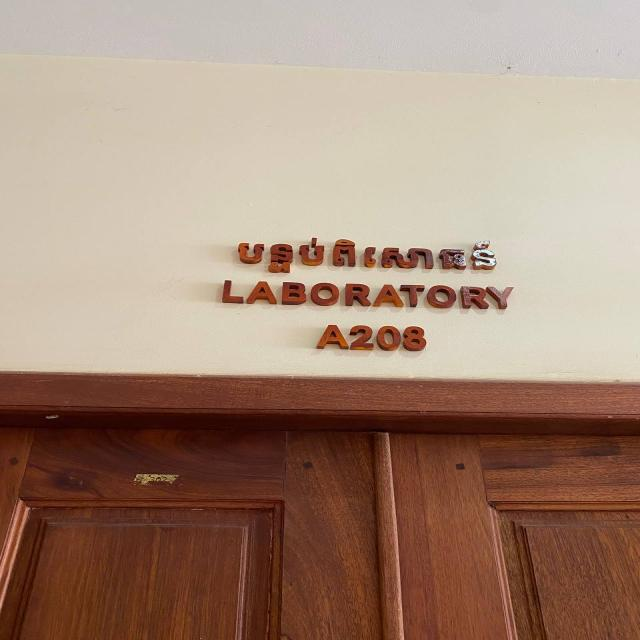656: (343, 317, 440, 356)
Yolov11_80vkh: (226, 230, 504, 282)
